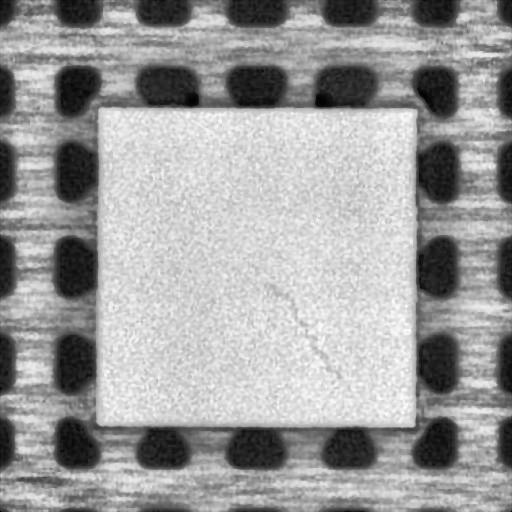DIE_CRACK: (268, 285, 337, 378)
